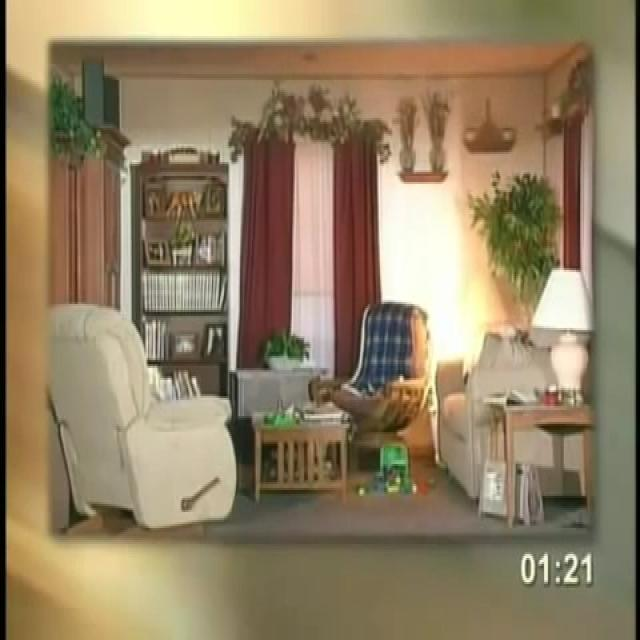Fire: (414, 217, 514, 471)
